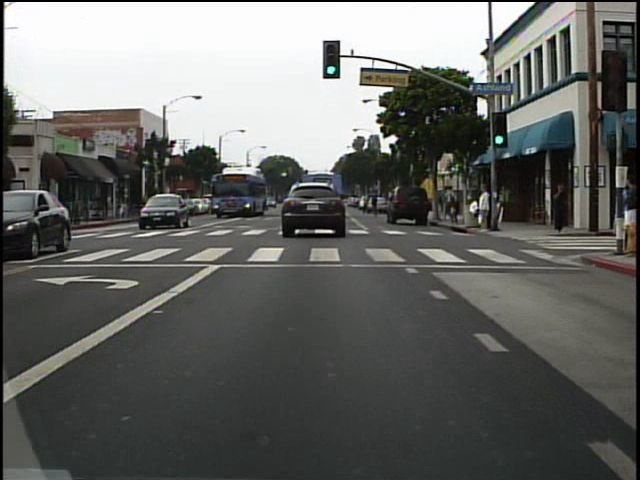person: (548, 179, 571, 236)
